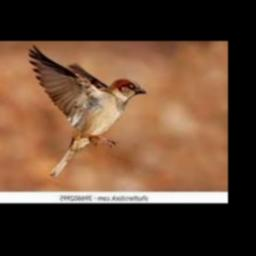Sparrow: (29, 44, 148, 177)
